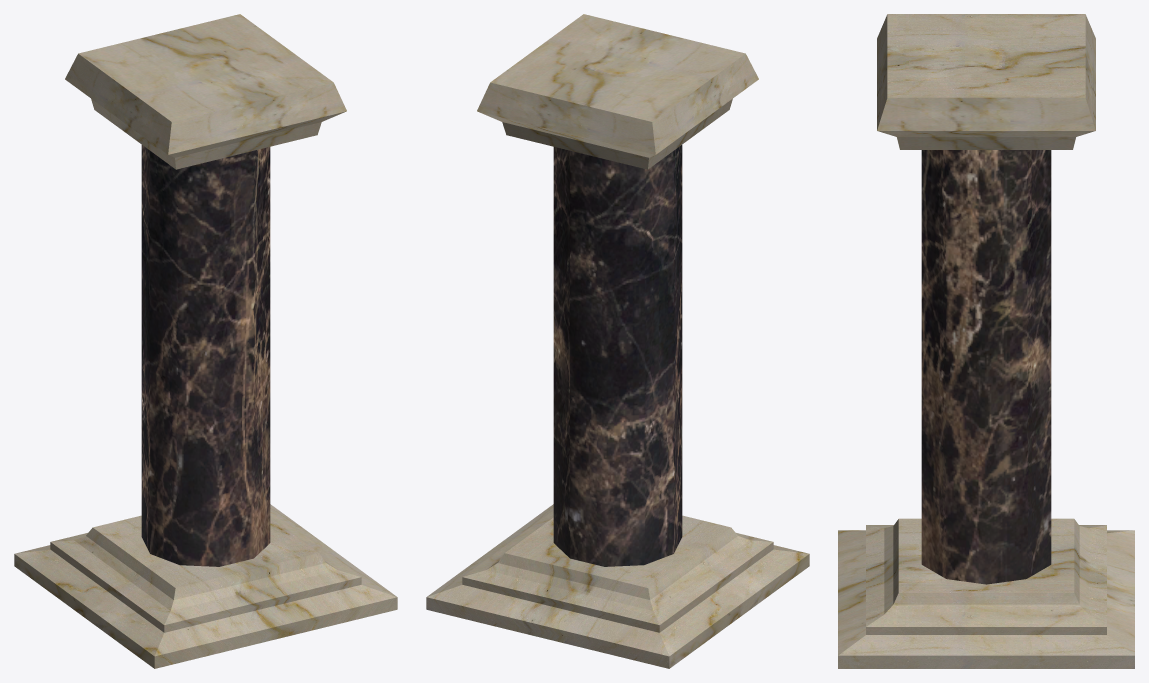
The model's file is pedestal_1.fbx.
3 renders of one model, left to right at view 1: azimuth 30°, elevation 25°; view 2: azimuth 150°, elevation 25°; view 3: azimuth 270°, elevation 25°, orthographic. The views are drawn at different scales.
Parts seen in each view (by area): view 1: mesh_1, mesh_0; view 2: mesh_1, mesh_0; view 3: mesh_1, mesh_0.
Part boxes in pixels (x1,y1,x2,y2): mesh_1: [14, 14, 397, 668]; mesh_0: [141, 145, 270, 566]; mesh_1: [426, 14, 809, 668]; mesh_0: [553, 145, 682, 566]; mesh_1: [838, 14, 1134, 668]; mesh_0: [921, 150, 1051, 584].
Bounding box in the file's own units: 43.38 × 88.73 × 43.38.
2 materials, 2 textured.
